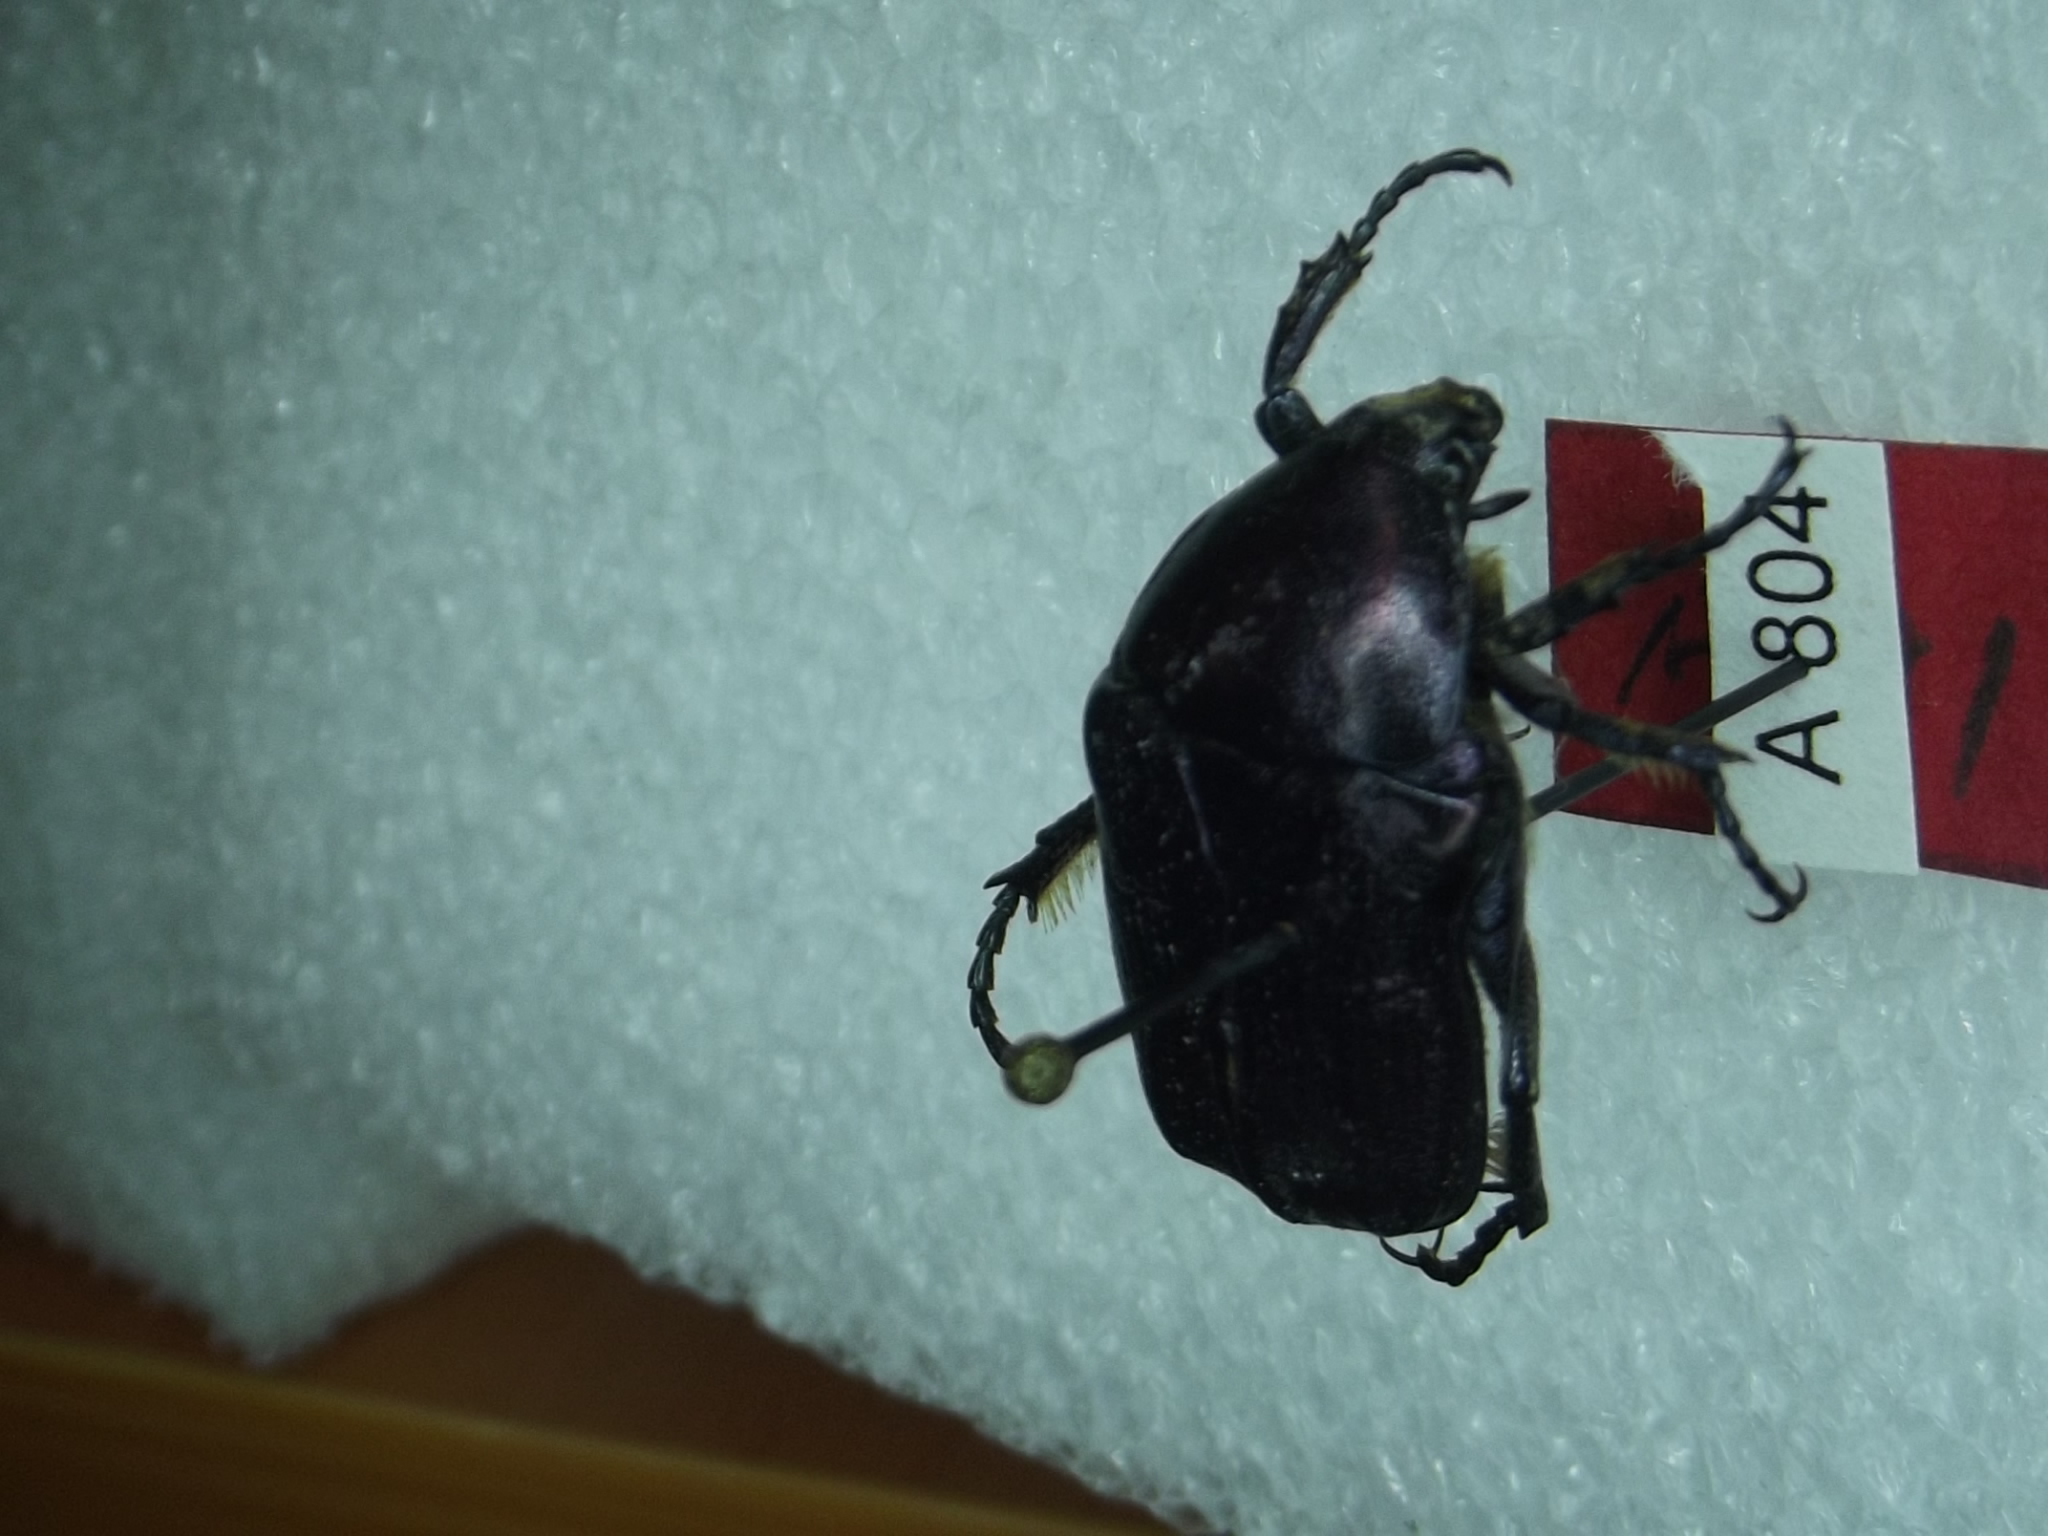Protaetia_besucheti: (910, 118, 1842, 1363)
